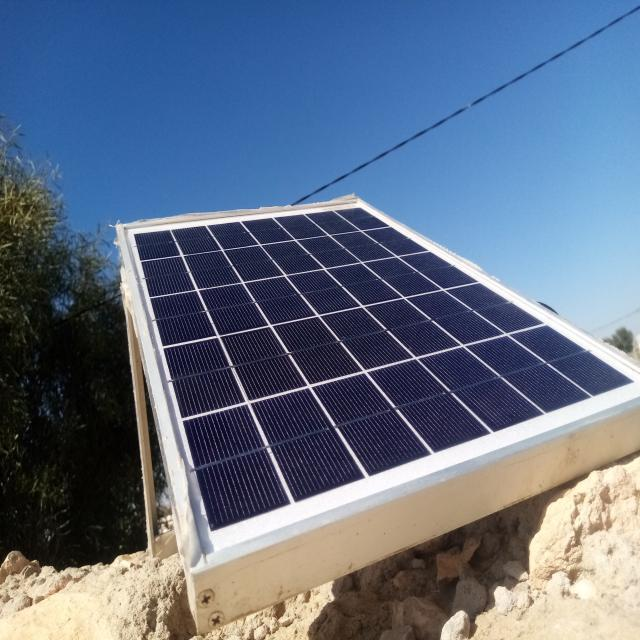no faulty: (122, 195, 640, 576)
